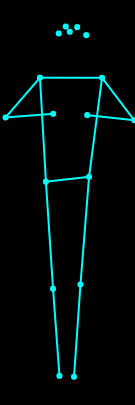mountain: (1, 17, 135, 383)
